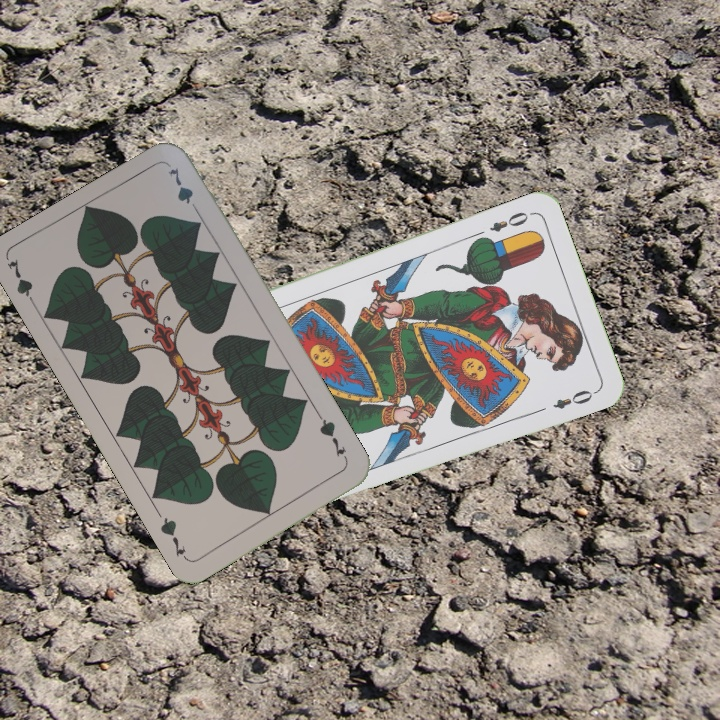EO: (485, 207, 531, 235)
G7: (3, 255, 40, 312), (314, 412, 348, 460)
